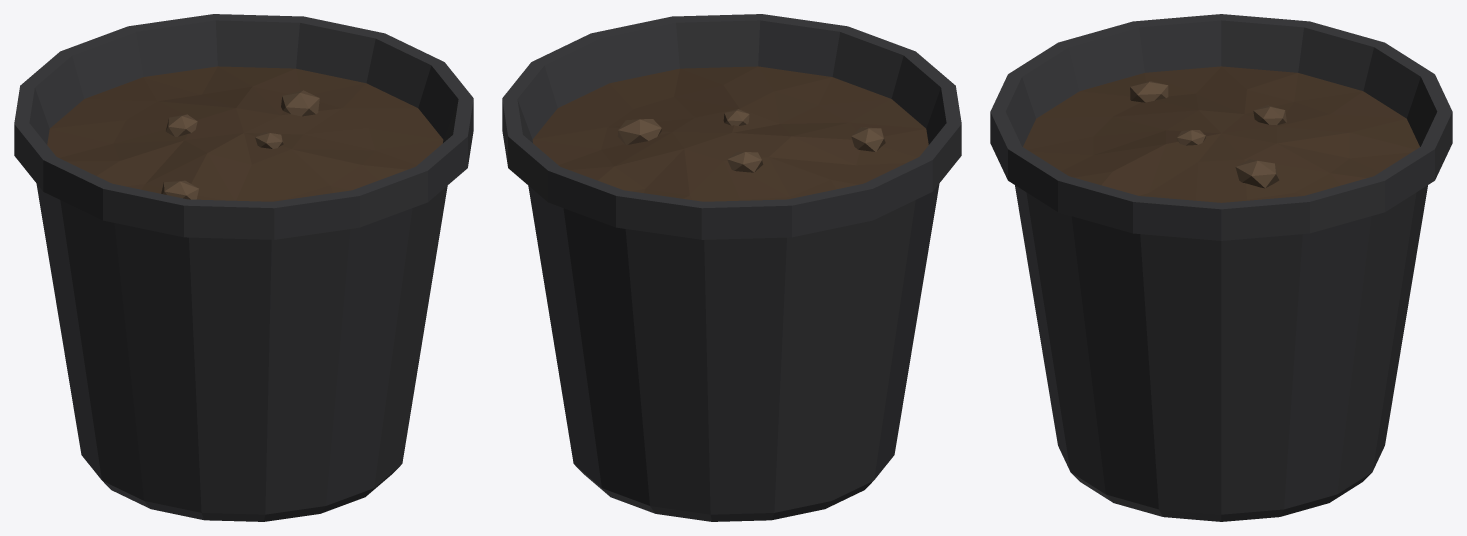
The model's file is Weed_Pot.glb.
The picture shows the model from 3 angles, left to right: view 1: azimuth 30°, elevation 25°; view 2: azimuth 150°, elevation 25°; view 3: azimuth 270°, elevation 25°; orthographic projection.
Parts seen in each view (by area): view 1: Weed_Pot; view 2: Weed_Pot; view 3: Weed_Pot.
Part boxes in pixels (x1,y1,x2,y2): Weed_Pot: (14,14,473,521); Weed_Pot: (502,14,961,521); Weed_Pot: (990,14,1452,521).
Size of the model in its own units: 0.848 by 0.7 by 0.848.
